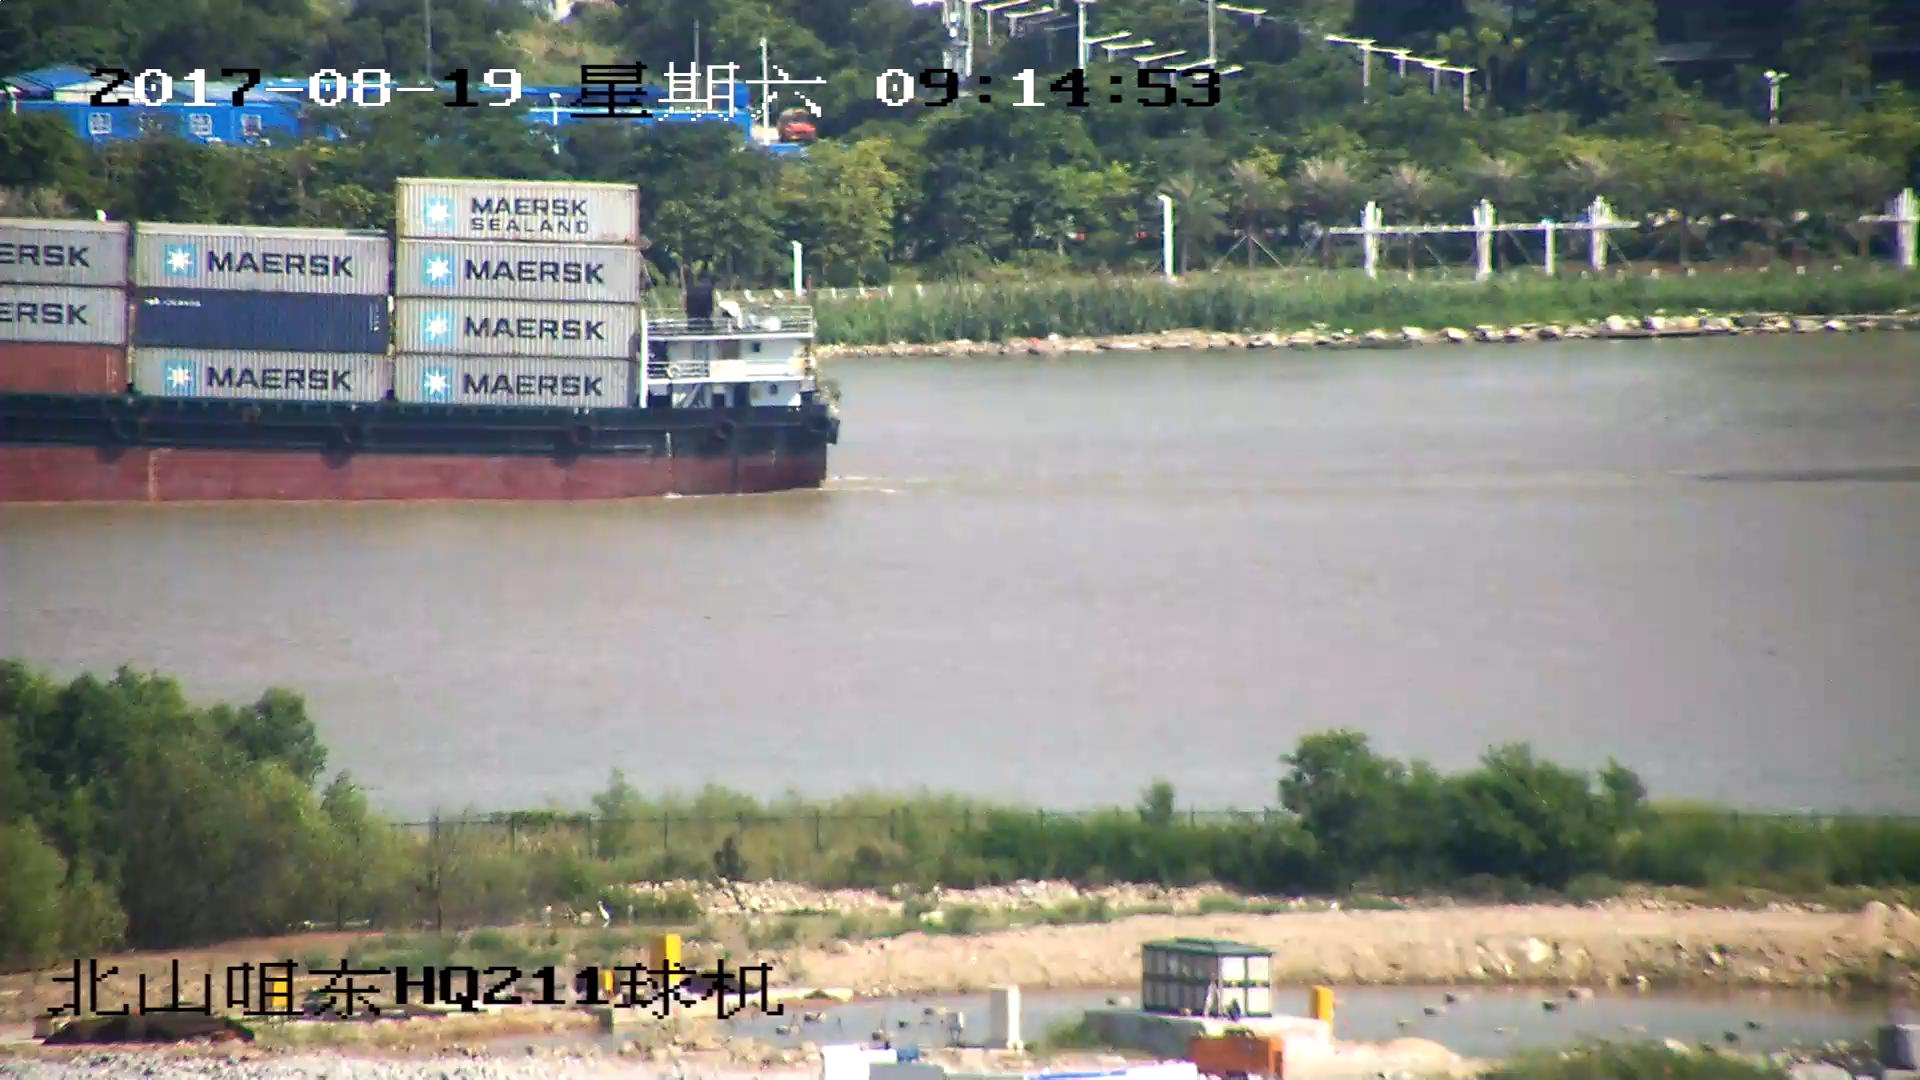container ship: (1, 176, 842, 501)
